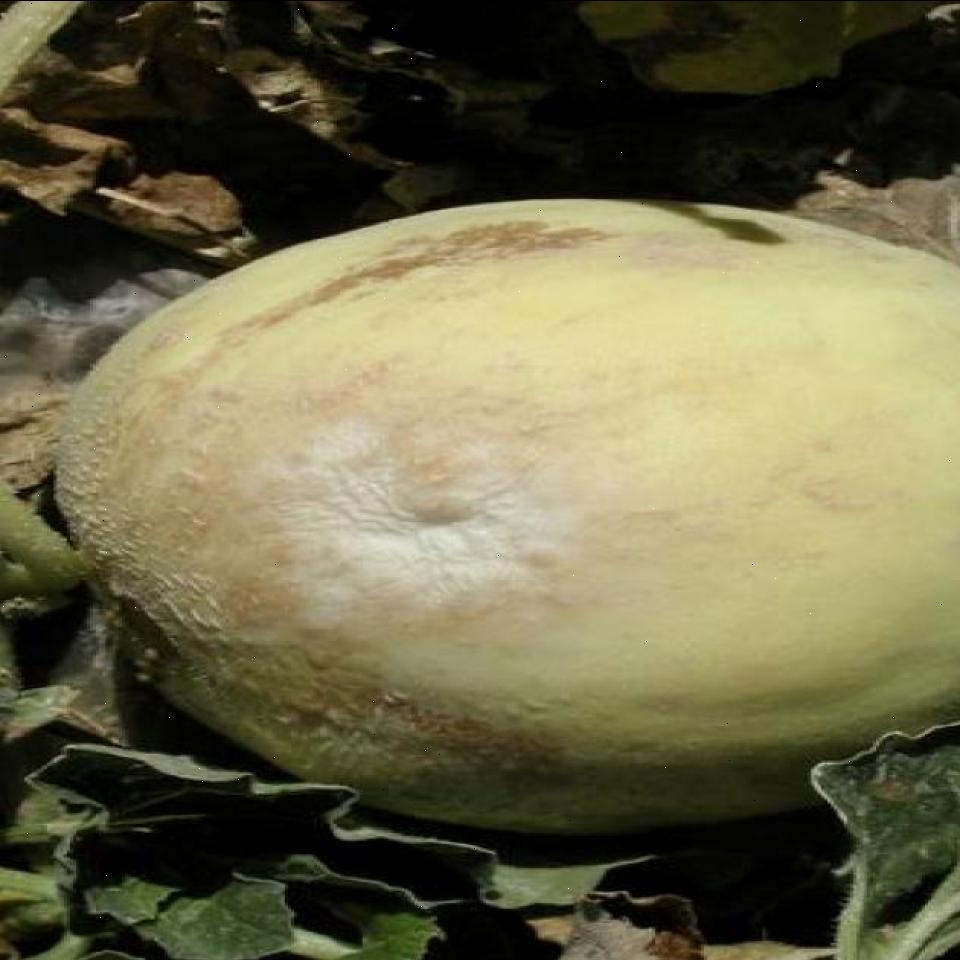Sunscald: (205, 403, 604, 662)
